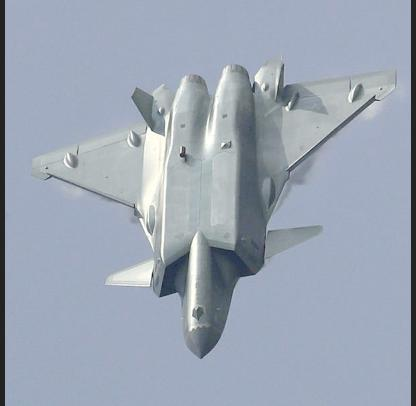F4: (30, 54, 397, 358)
